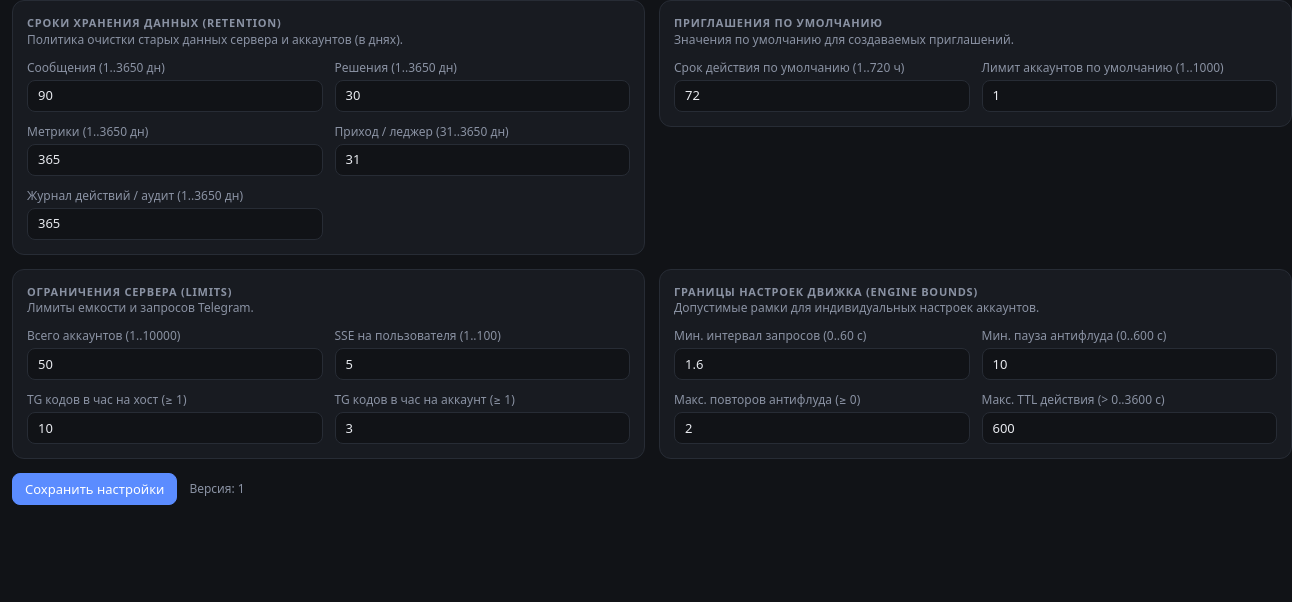
Scenario: Консоль владельца › настройки сервера: конфликт версии — перечитать
Expected: the number field showing "90" is shown, [27,80,322,112]
Click the button "Сохранить настройки" at (95, 489), box [12,473,177,505]
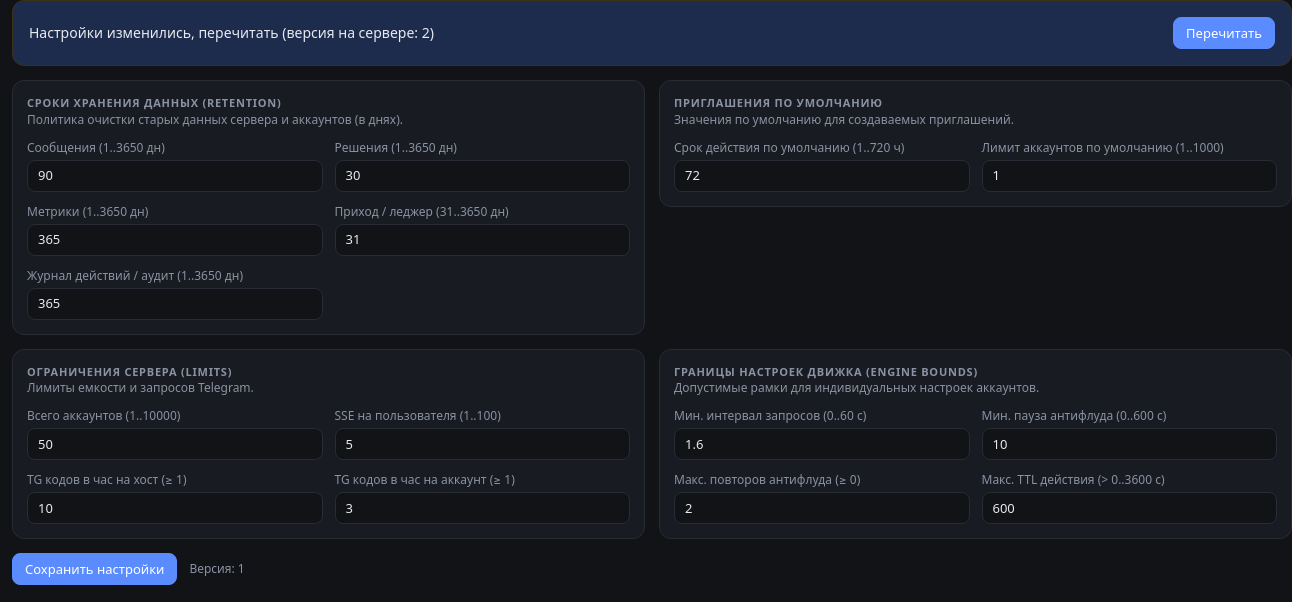
Expected: the text "Настройки изменились, перечитать (версия на сервере: 2)" is shown, [29,23,434,43]
Click the button "Перечитать" at (1224, 33), box [1173,17,1275,49]
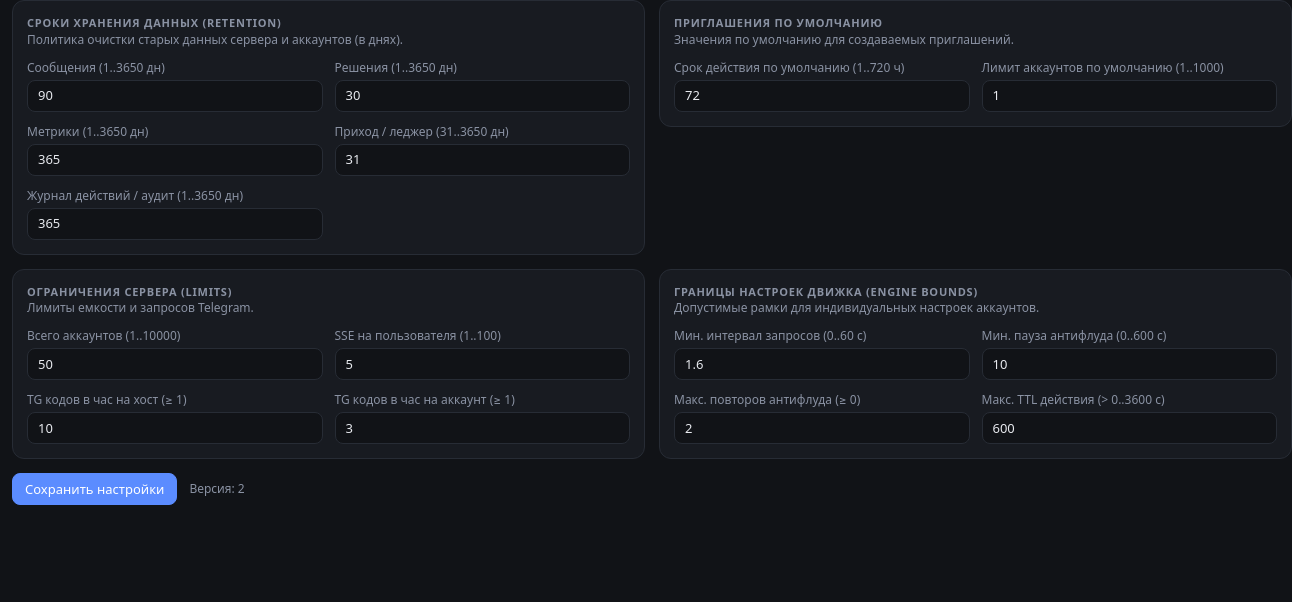
Expected: the text "Настройки изменились, перечитать" is gone
Expected: the text "Версия: 2" is shown, [189,481,245,497]
